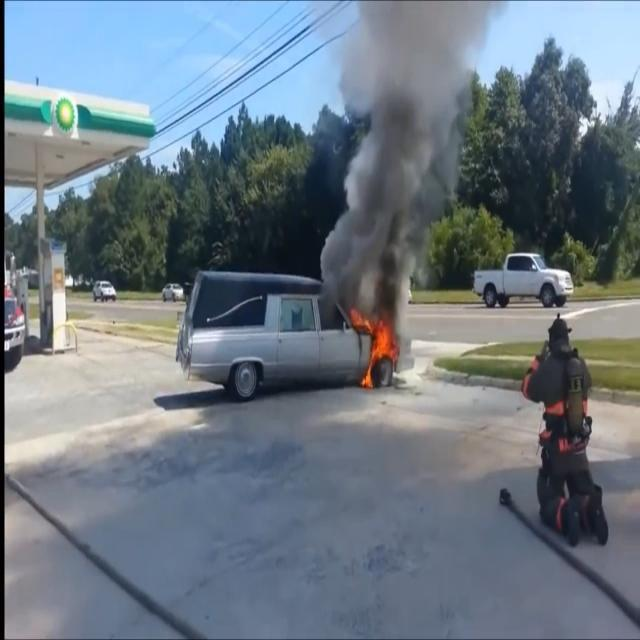fire: (344, 293, 400, 391)
